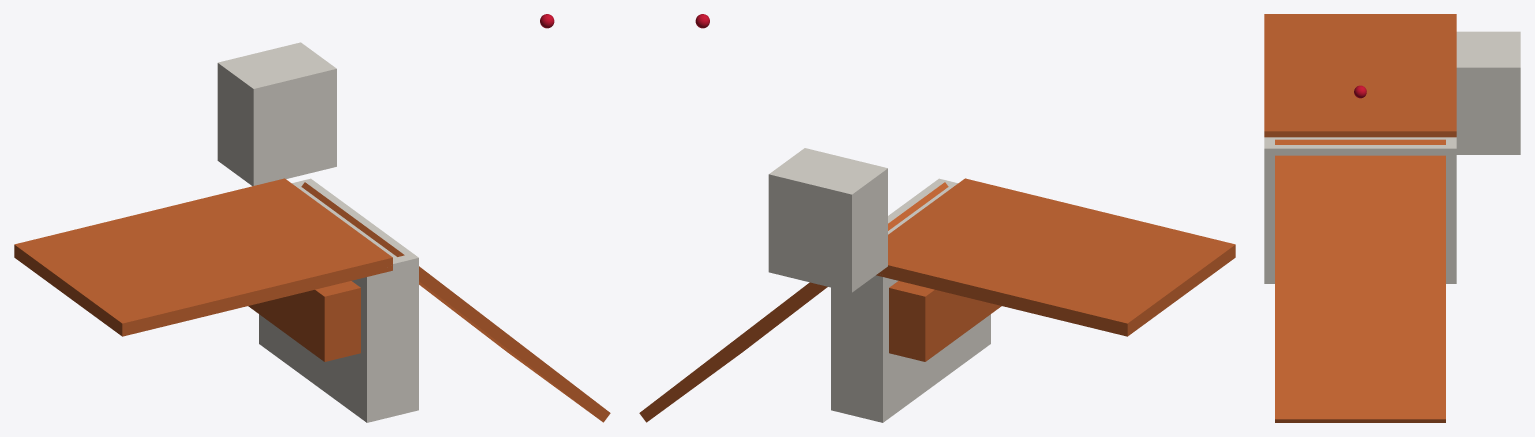
The model's file is c05-bridge-bascule.glb.
3 renders of one model, left to right at view 1: azimuth 30°, elevation 25°; view 2: azimuth 150°, elevation 25°; view 3: azimuth 270°, elevation 25°, orthographic. The views are drawn at different scales.
Visible parts, largest first — view 1: part0, part4, part1, part3, part2; view 2: part0, part4, part1, part3, part2; view 3: part2, part0, part4, part1.
Boxes of the visible parts, box(x1,y1,x2,y2) form: part0: box(14, 178, 392, 336); part4: box(217, 42, 336, 186); part1: box(259, 178, 418, 422); part3: box(248, 281, 360, 361); part2: box(301, 182, 610, 422); part0: box(876, 178, 1235, 336); part4: box(768, 148, 887, 292); part1: box(831, 178, 990, 422); part3: box(889, 281, 1001, 361); part2: box(639, 182, 948, 422); part2: box(1275, 139, 1445, 422); part0: box(1264, 14, 1456, 137); part4: box(1456, 31, 1520, 154); part1: box(1264, 137, 1456, 283).
Bounding box in the file's own units: 23744 × 17205 × 12000.
